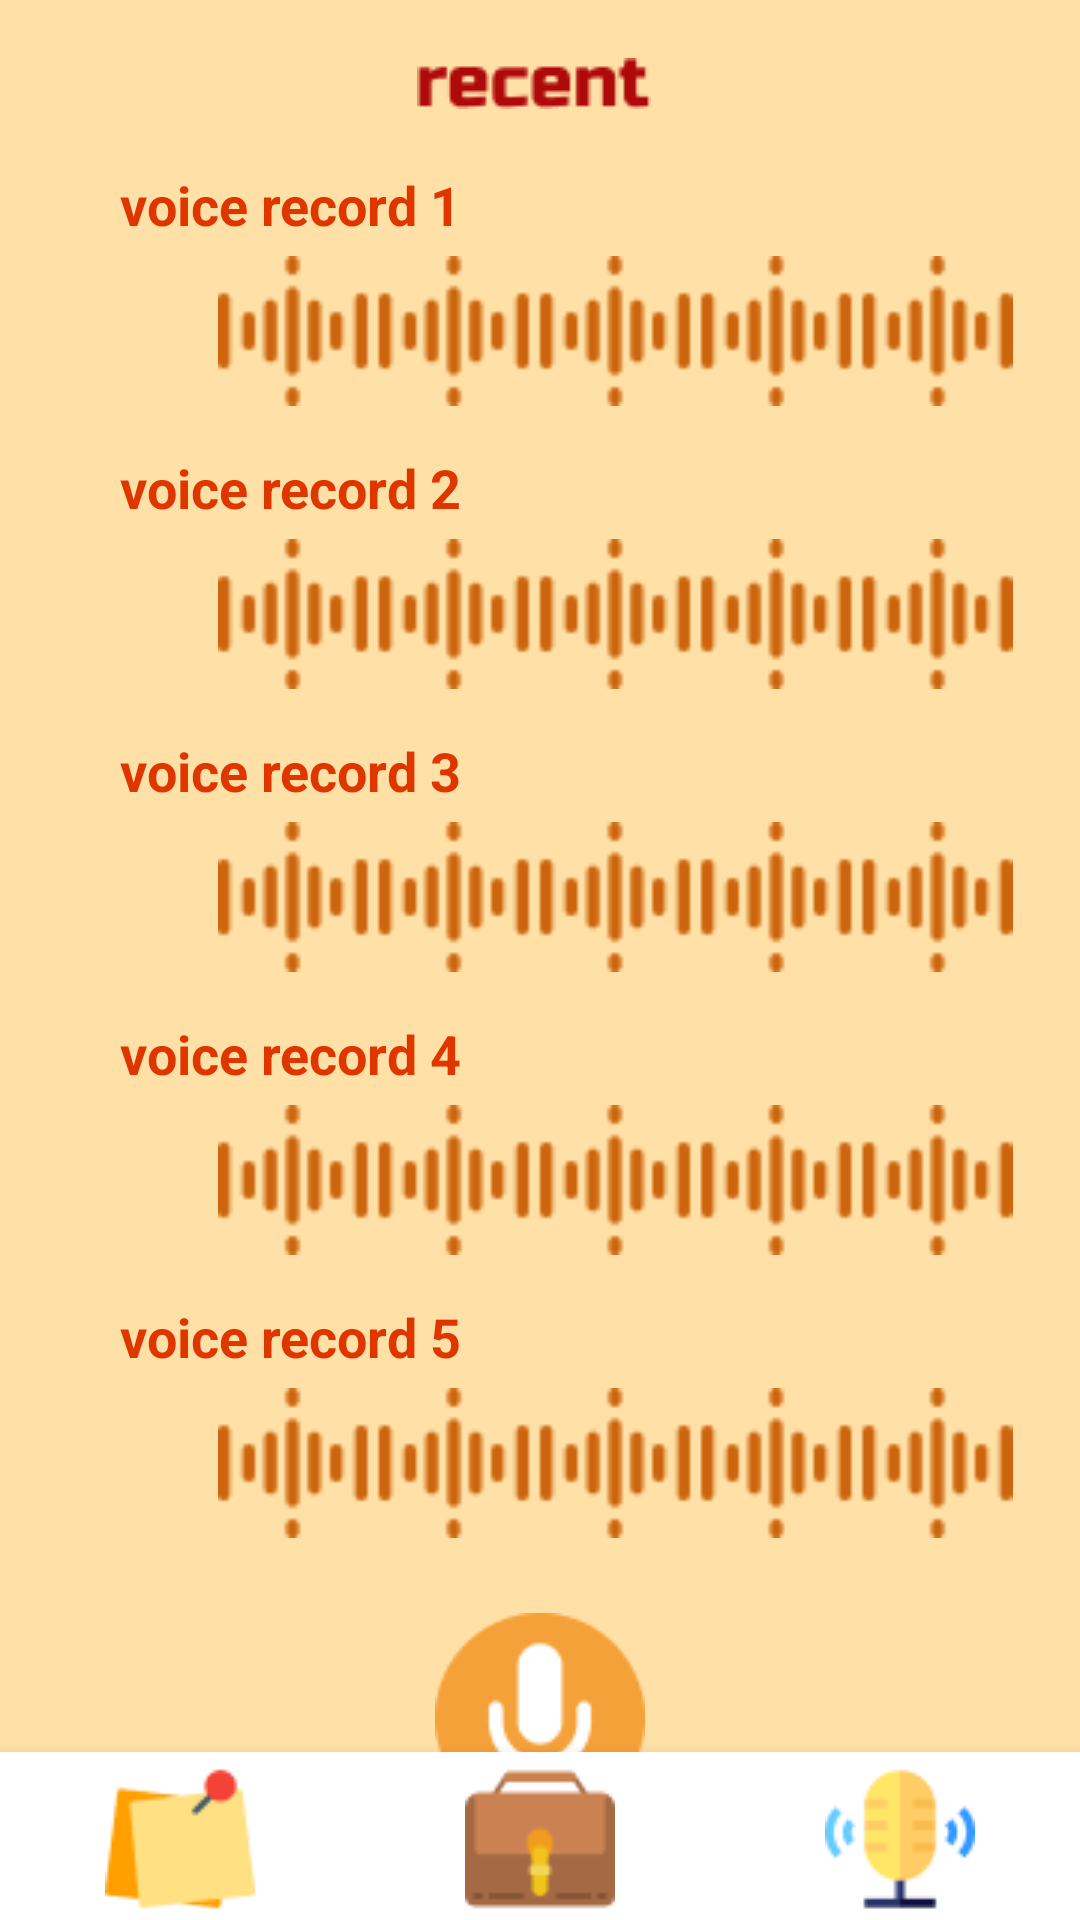

Screen size 1080x1920. Icon name, then its center in pixels as (x,y):
post: (180,1839)
voice control: (900,1839)
work: (540,1839)
